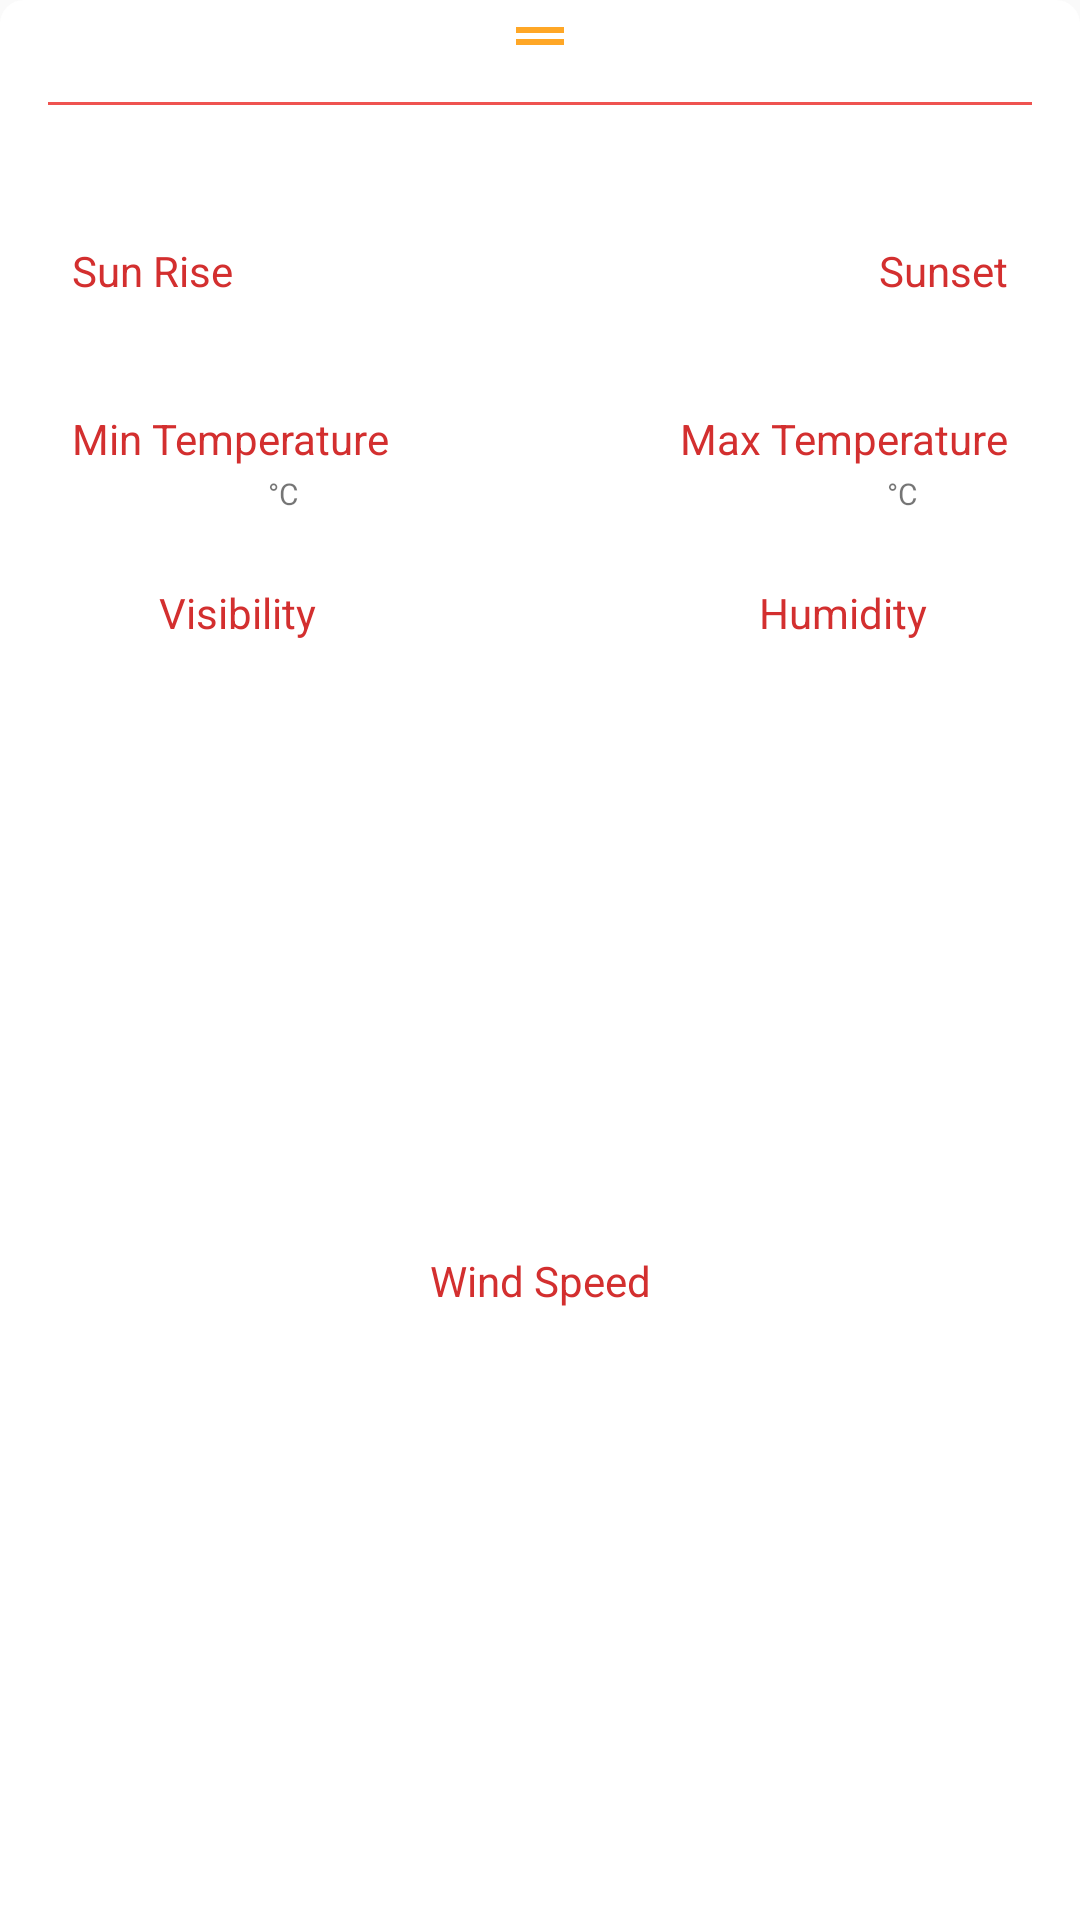

Icons on this 1080px×1920px Android screen, each with its box as (x1, y1, x2, y2):
drag handle: (516, 27, 564, 45)
